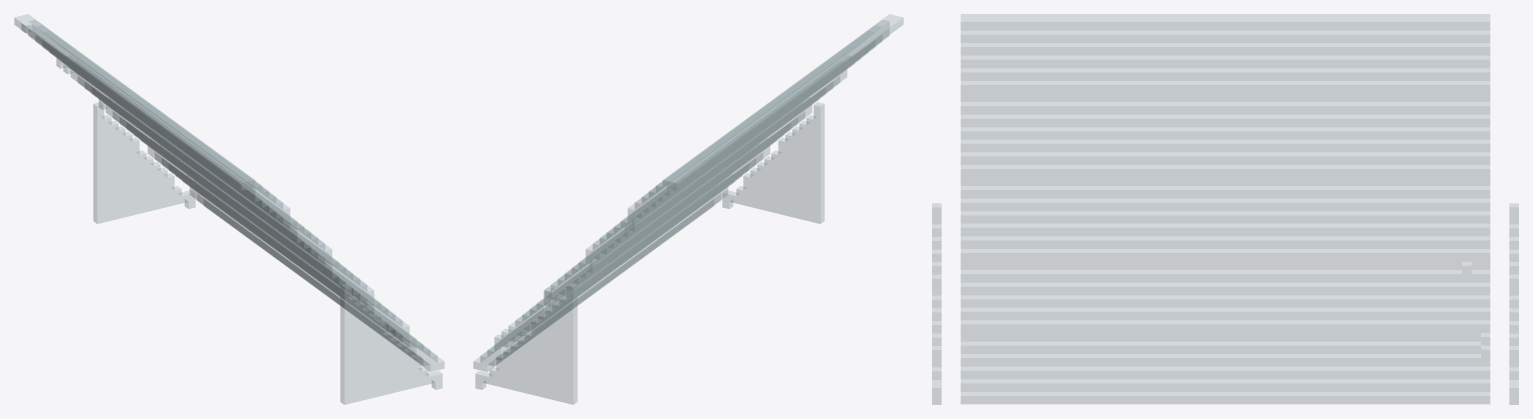
Rendered from camper_van_windscreen.glb.
3 renders of one model, left to right at view 1: azimuth 30°, elevation 25°; view 2: azimuth 150°, elevation 25°; view 3: azimuth 270°, elevation 25°, orthographic. The views are drawn at different scales.
Visible parts, largest first — view 1: body:compound; view 2: body:compound; view 3: body:compound.
Boxes of the visible parts, x1=… form: body:compound: x1=14, y1=14, x2=444, y2=404; body:compound: x1=473, y1=14, x2=903, y2=404; body:compound: x1=932, y1=14, x2=1518, y2=404.
Size of the model in its own units: 0.9062 by 1.03 by 1.94.
